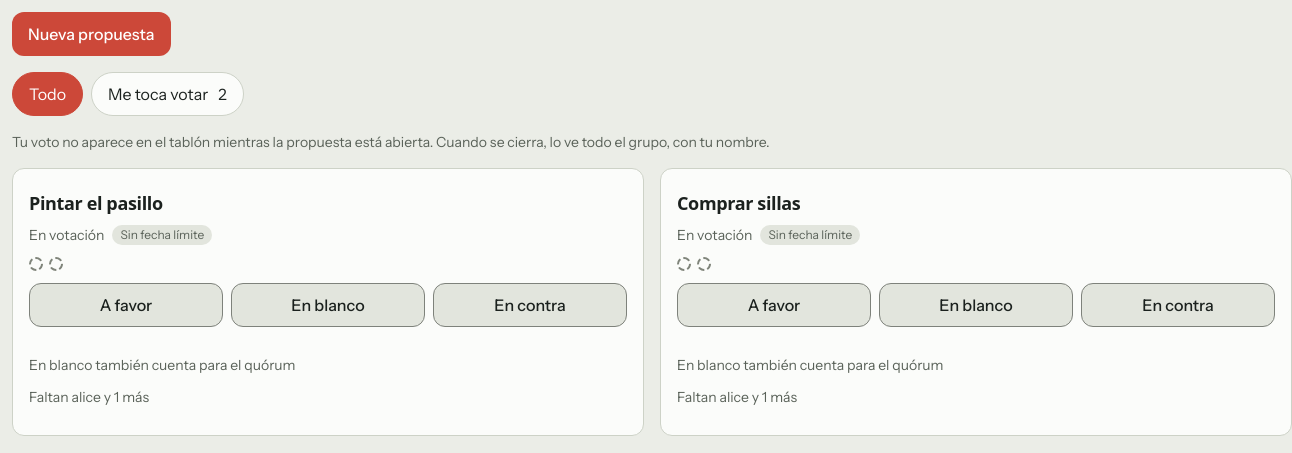
Test case: BoardPage, el momento de votar › la confirmación se queda en la propuesta que se votó
Click the button "A favor" below "Pintar el pasillo" at [126, 305], box [29,283,223,327]
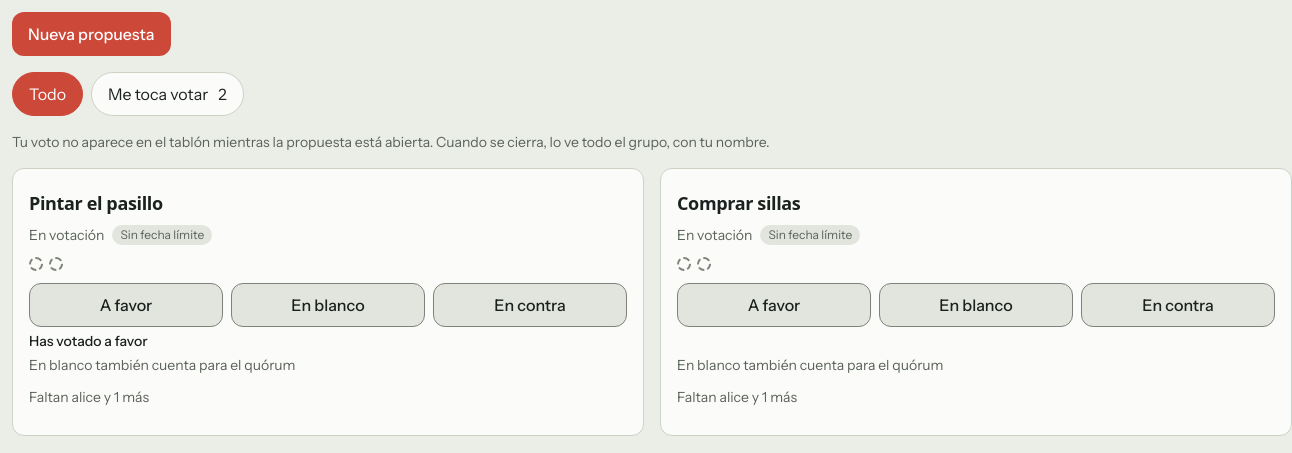
Check: the message "Has votado a favor" is shown, box [29,332,148,350]
